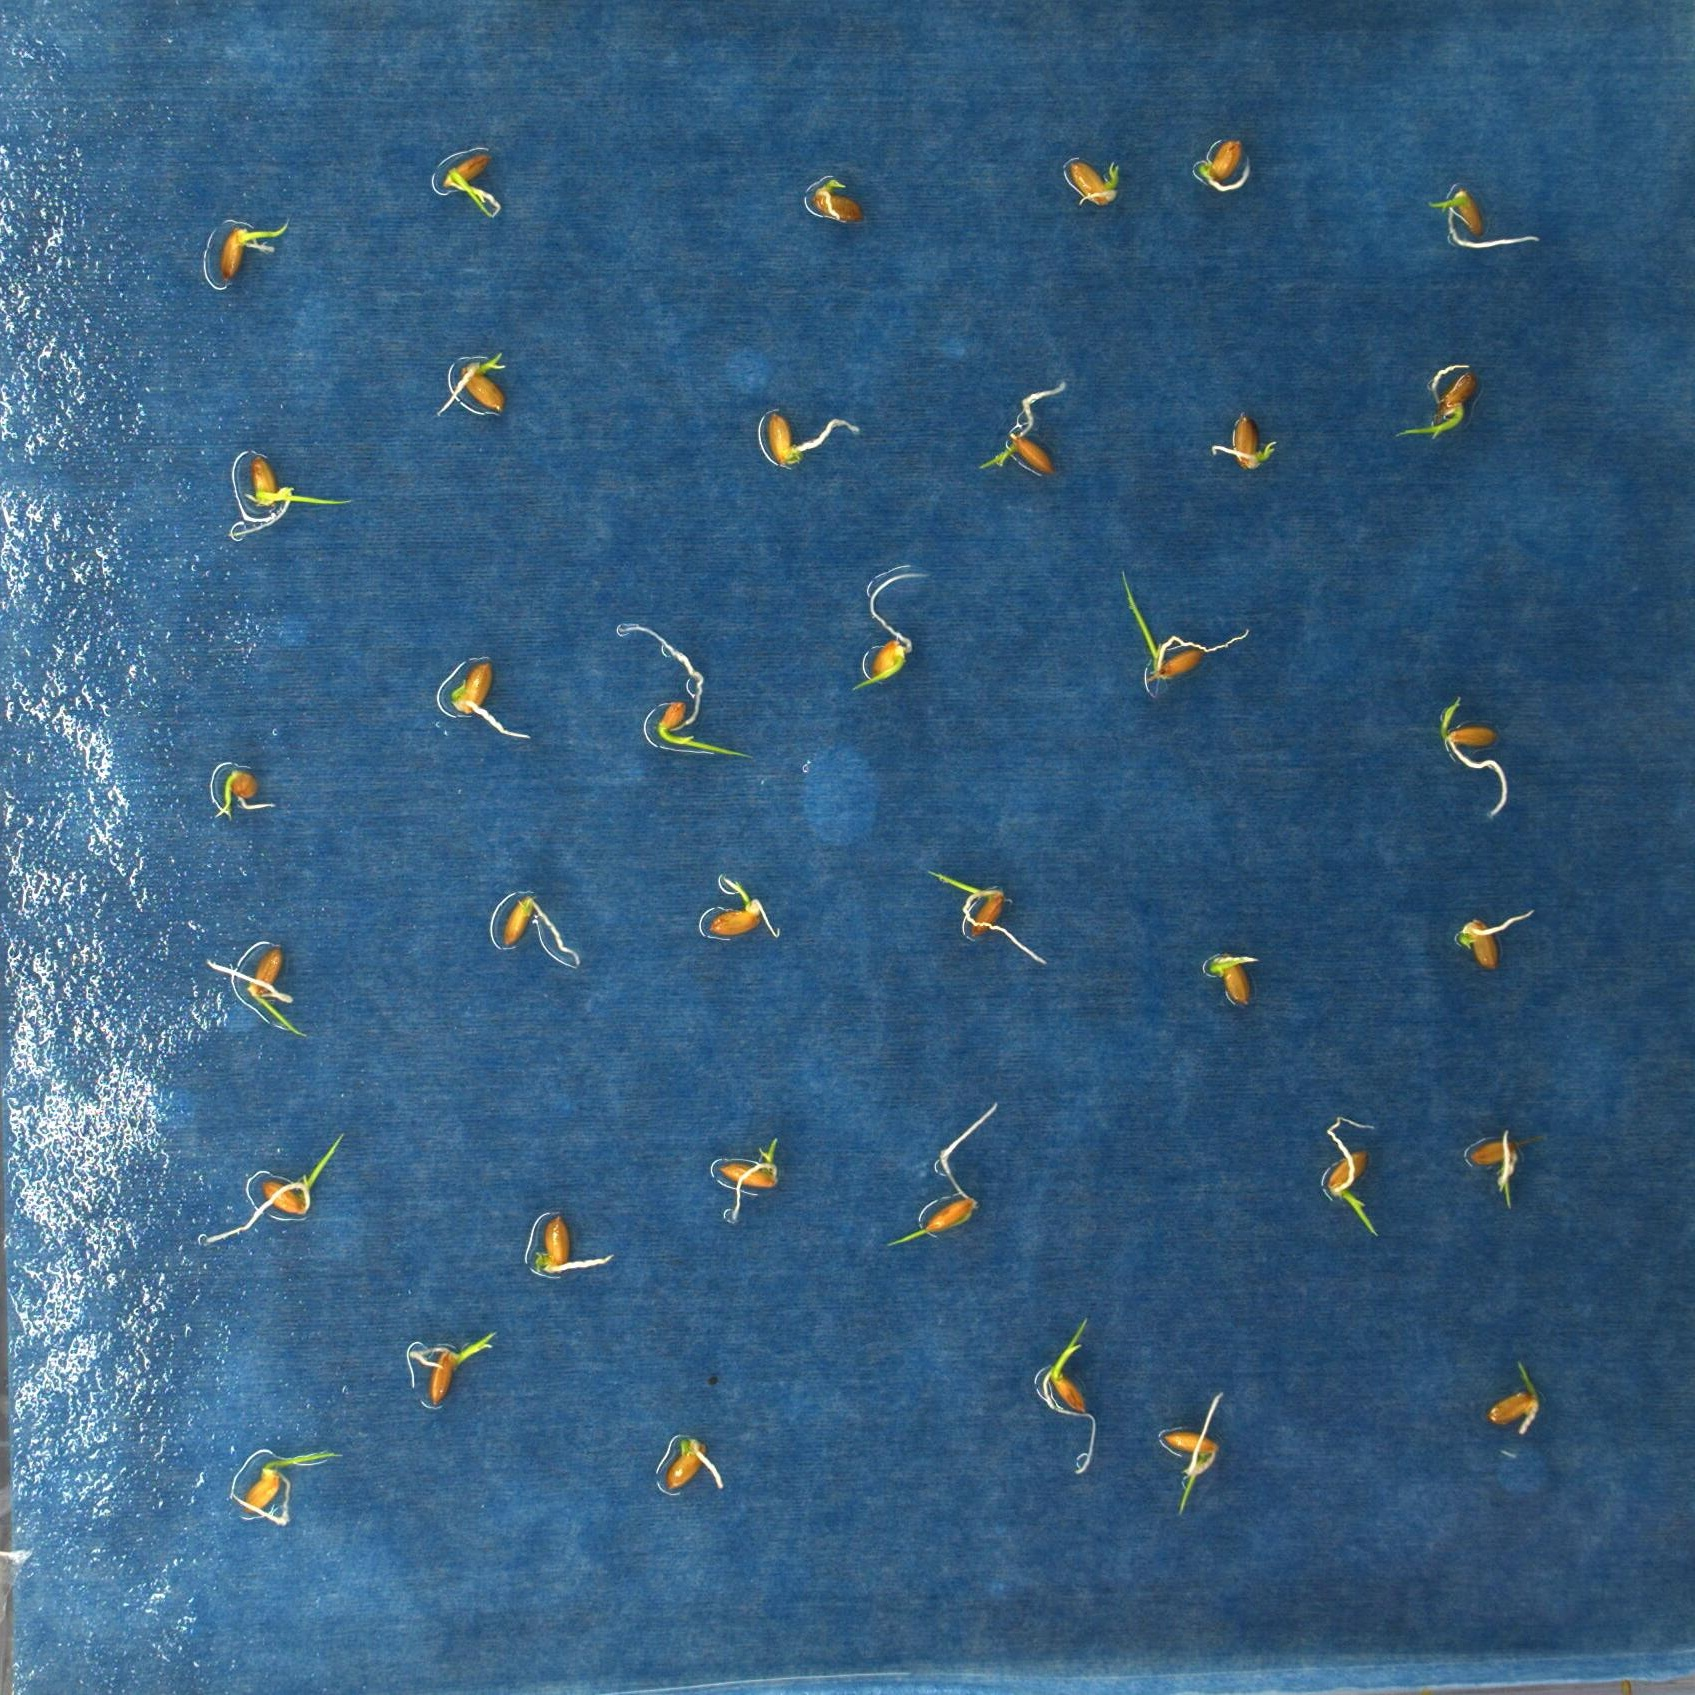not sprout: (498, 893, 585, 965), (529, 1209, 612, 1281), (761, 414, 861, 469), (1456, 910, 1538, 970), (655, 1430, 723, 1492), (1194, 141, 1248, 180)
sprout: (618, 618, 751, 764), (886, 1101, 998, 1248), (206, 1132, 345, 1245), (1121, 581, 1251, 683), (931, 863, 1051, 969), (205, 941, 310, 1040), (237, 455, 362, 531), (851, 574, 930, 691), (973, 382, 1063, 481), (1045, 1319, 1099, 1476), (1319, 1111, 1388, 1236), (1439, 695, 1510, 812), (1156, 1394, 1220, 1520), (234, 1454, 341, 1524), (1430, 186, 1541, 251), (441, 660, 525, 740), (405, 1333, 498, 1402), (703, 871, 782, 944), (1392, 374, 1476, 438), (719, 1144, 782, 1222), (217, 220, 292, 284), (433, 354, 511, 414), (442, 151, 504, 224), (1468, 1132, 1523, 1211), (1487, 1361, 1538, 1439), (210, 764, 275, 821), (1211, 414, 1277, 470), (1205, 948, 1260, 1007), (1060, 157, 1124, 208), (810, 177, 865, 227)
